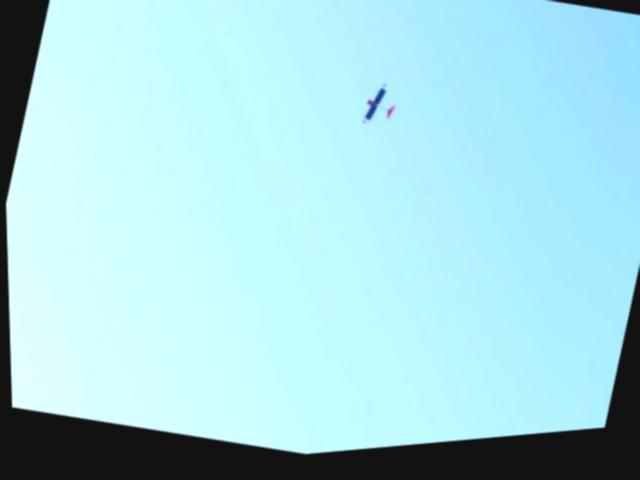uav: (357, 85, 401, 136)
